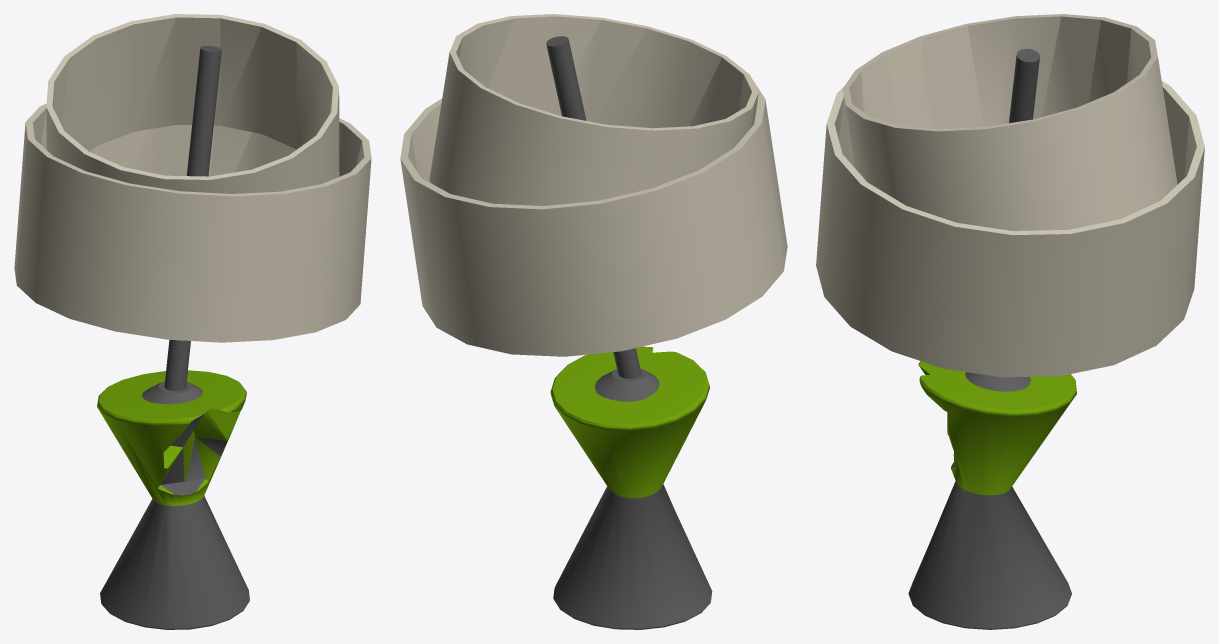
File: asset_lamp_messy.fbx
3 views of the same model, side by side, from view 1: azimuth 30°, elevation 25°; view 2: azimuth 150°, elevation 25°; view 3: azimuth 270°, elevation 25° (orthographic). The views are drawn at different scales.
Parts seen in each view (by area): view 1: pCylinder3, pCylinder4, pCylinder8, pCylinder5, pCylinder6; view 2: pCylinder3, pCylinder4, pCylinder8, pCylinder5, pCylinder6; view 3: pCylinder3, pCylinder4, pCylinder8, pCylinder5, pCylinder6.
Boxes of the visible parts, x1,y1,x2,y2 form: pCylinder3: (14, 104, 371, 342); pCylinder4: (46, 14, 339, 193); pCylinder8: (97, 370, 249, 629); pCylinder5: (164, 46, 221, 390); pCylinder6: (142, 381, 202, 404); pCylinder3: (400, 79, 787, 356); pCylinder4: (429, 14, 758, 205); pCylinder8: (550, 346, 712, 629); pCylinder5: (546, 36, 641, 378); pCylinder6: (594, 368, 659, 401); pCylinder3: (816, 81, 1204, 377); pCylinder4: (843, 14, 1177, 230); pCylinder8: (908, 361, 1076, 629); pCylinder5: (1009, 48, 1039, 123); pCylinder6: (965, 372, 1030, 391).
Bounding box in the file's own units: 8.55 × 13.6 × 8.38.
